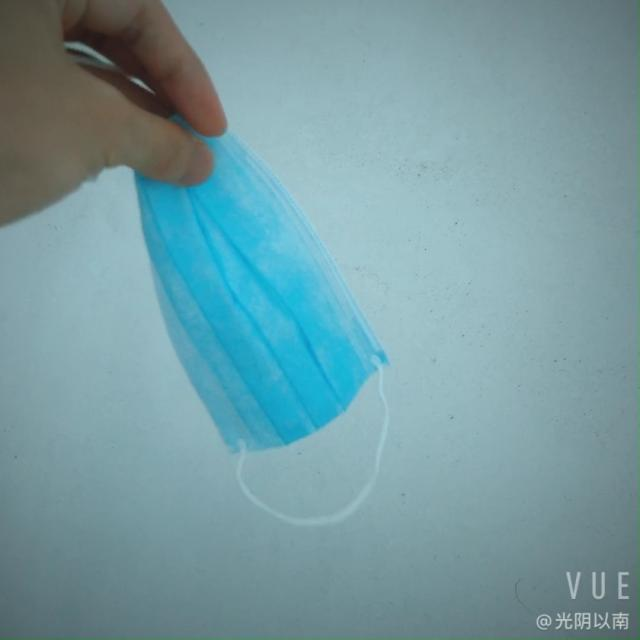non-organic waste: (125, 120, 378, 469)
